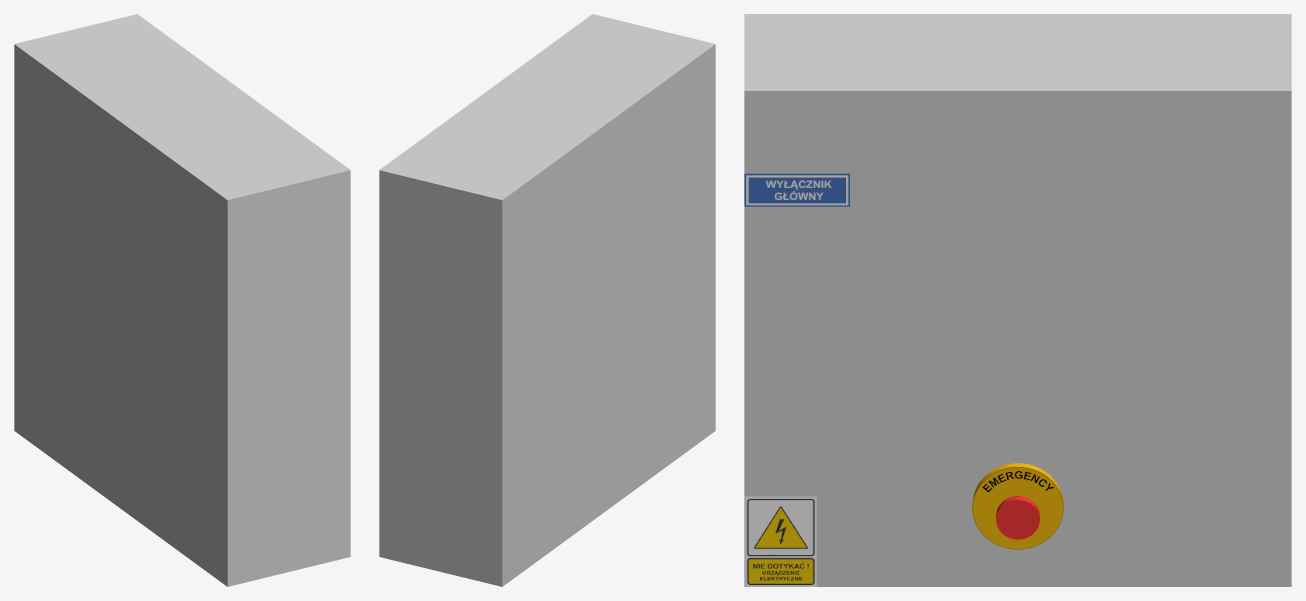
File: Control cabinet.fbx
The picture shows the model from 3 angles, left to right: view 1: azimuth 30°, elevation 25°; view 2: azimuth 150°, elevation 25°; view 3: azimuth 270°, elevation 25°; orthographic projection. The views are drawn at different scales.
Parts seen in each view (by area): view 1: Model; view 2: Model; view 3: Model.
Part boxes in pixels (left/top/right/bottom): Model: left=14, top=14, right=350, bottom=586; Model: left=379, top=14, right=715, bottom=586; Model: left=744, top=14, right=1291, bottom=586.
Size of the model in its own units: 0.24 by 0.6 by 0.6.
